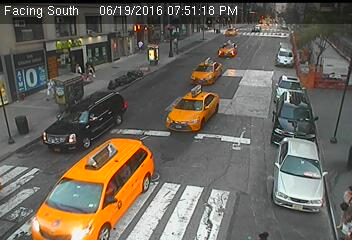neg: (95, 135, 118, 166), (230, 170, 252, 199), (60, 70, 81, 99), (237, 37, 258, 66), (157, 190, 177, 215), (105, 93, 124, 119), (291, 105, 309, 129), (16, 63, 34, 87), (195, 87, 213, 110), (305, 65, 323, 88), (231, 117, 247, 138), (140, 56, 156, 76), (16, 119, 30, 137)
